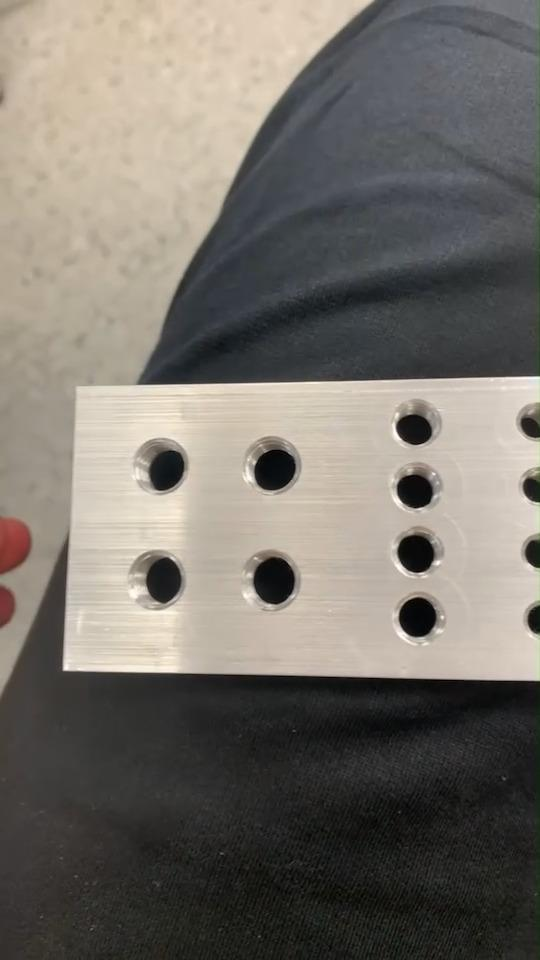hole: (240, 544, 306, 614), (240, 433, 306, 498), (122, 548, 186, 612), (388, 587, 453, 649), (131, 438, 191, 497), (388, 462, 445, 514), (391, 526, 446, 579), (388, 398, 442, 449)
